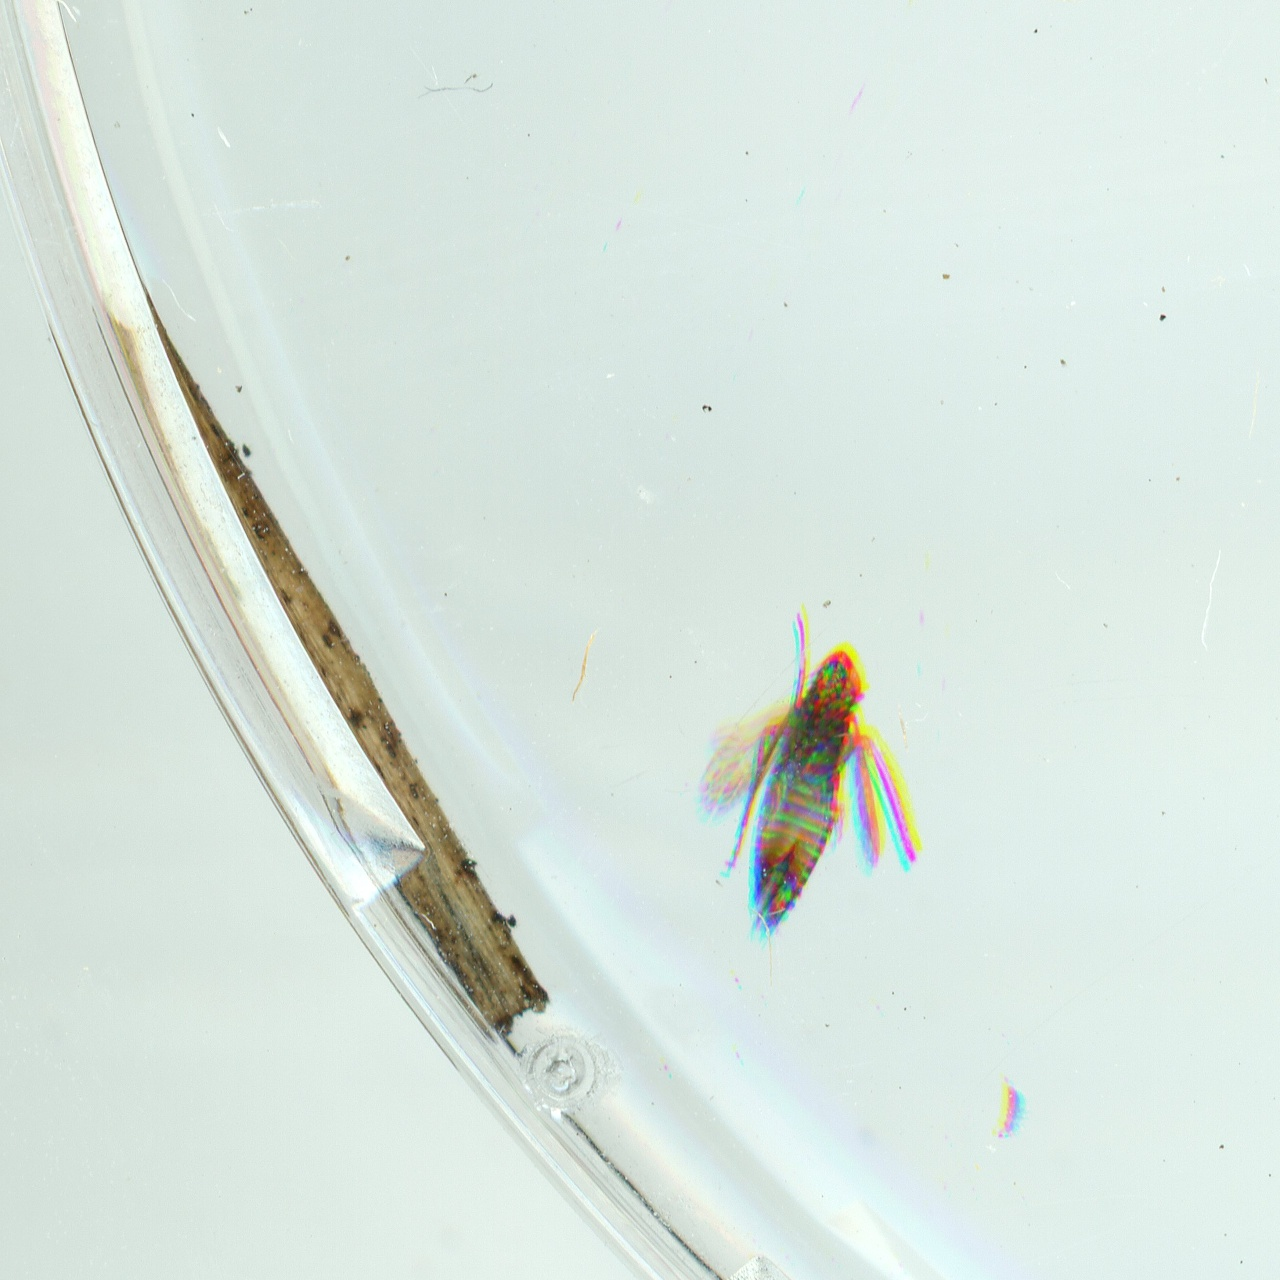arthropod: (685, 608, 933, 948), (995, 1067, 1030, 1149)
